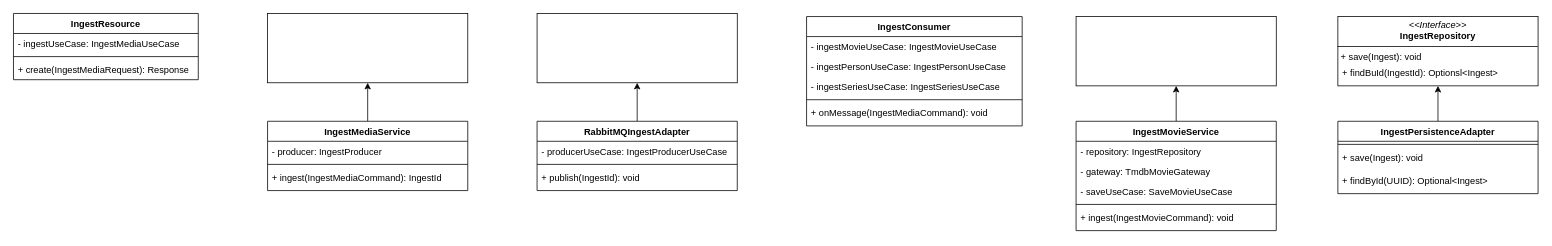
Some shapes in this 1552 by 246 pixel diagram are drawn without their labels. The shapes that lost their labels are listed below. From the top down, each one's centre as x and y in pixels, then its label:
At (367,48): "<<Interface>> IngestMediaUseCase + ingest(IngestMediaCommand): IngestId".
At (636,48): "<<Interface>> IngestProducer + publish(IngestId): void".
At (1175,51): "<<Interface>> IngestMovieUseCase + ingest(IngestMovieCommand): void".
